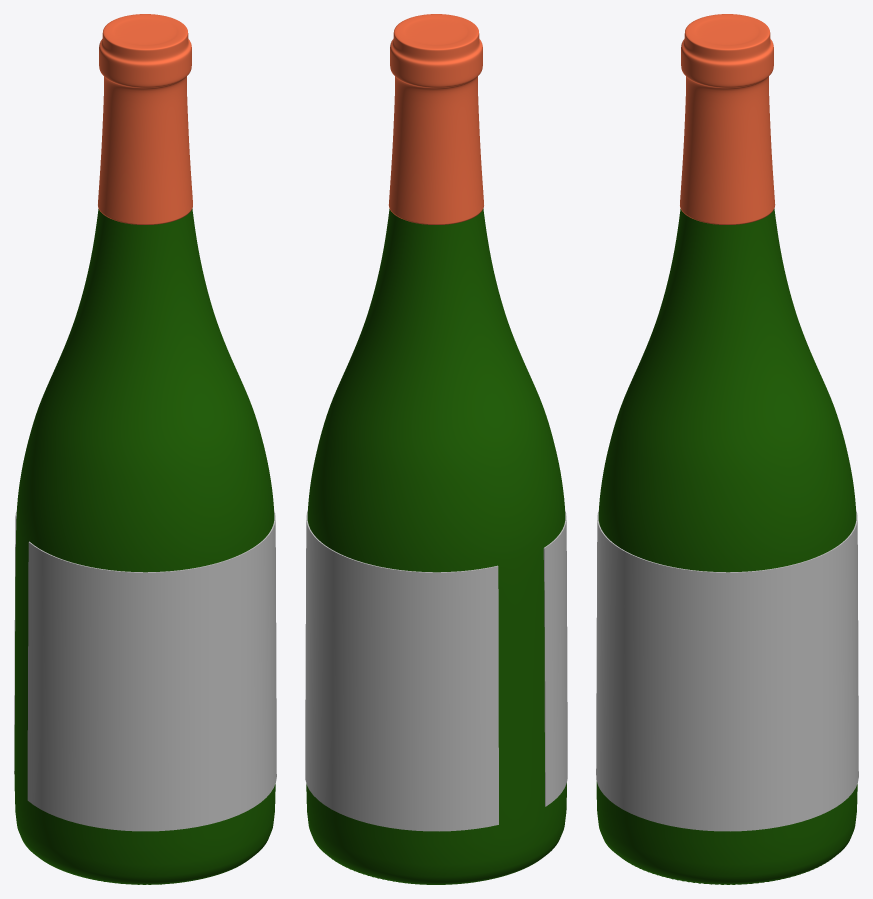
File: wine-bottle-tut.gltf
3 views of the same model, side by side, from view 1: azimuth 30°, elevation 25°; view 2: azimuth 150°, elevation 25°; view 3: azimuth 270°, elevation 25° (orthographic).
Visible parts, largest first — view 1: Foil, Label_COL, Foil.001; view 2: Foil, Label_COL, Foil.001; view 3: Foil, Label_COL, Foil.001.
Boxes of the visible parts, bbox=[...] form: Foil: bbox=[14, 209, 275, 884]; Label_COL: bbox=[14, 509, 276, 831]; Foil.001: bbox=[98, 14, 192, 224]; Foil: bbox=[306, 209, 566, 884]; Label_COL: bbox=[305, 509, 567, 831]; Foil.001: bbox=[388, 14, 483, 224]; Foil: bbox=[596, 209, 857, 884]; Label_COL: bbox=[596, 509, 858, 831]; Foil.001: bbox=[680, 14, 775, 224].
Bounding box in the file's own units: 0.0861 × 0.2912 × 0.0861.
